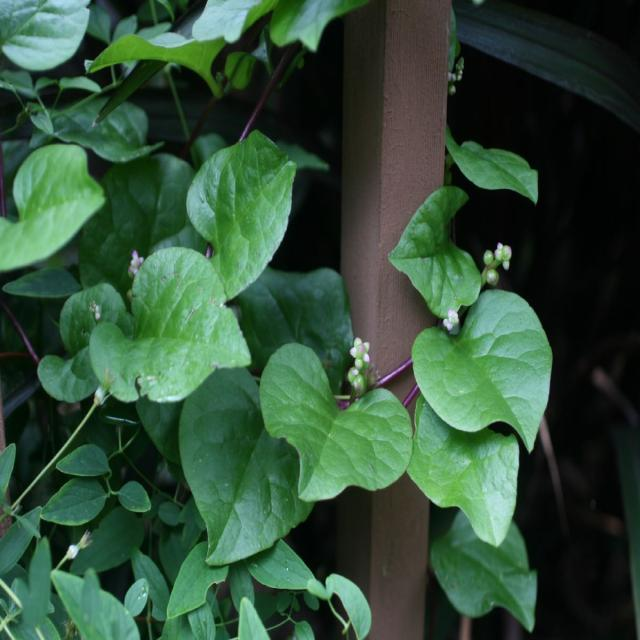Medicinal-Basale: (43, 114, 344, 564), (392, 124, 561, 637)
